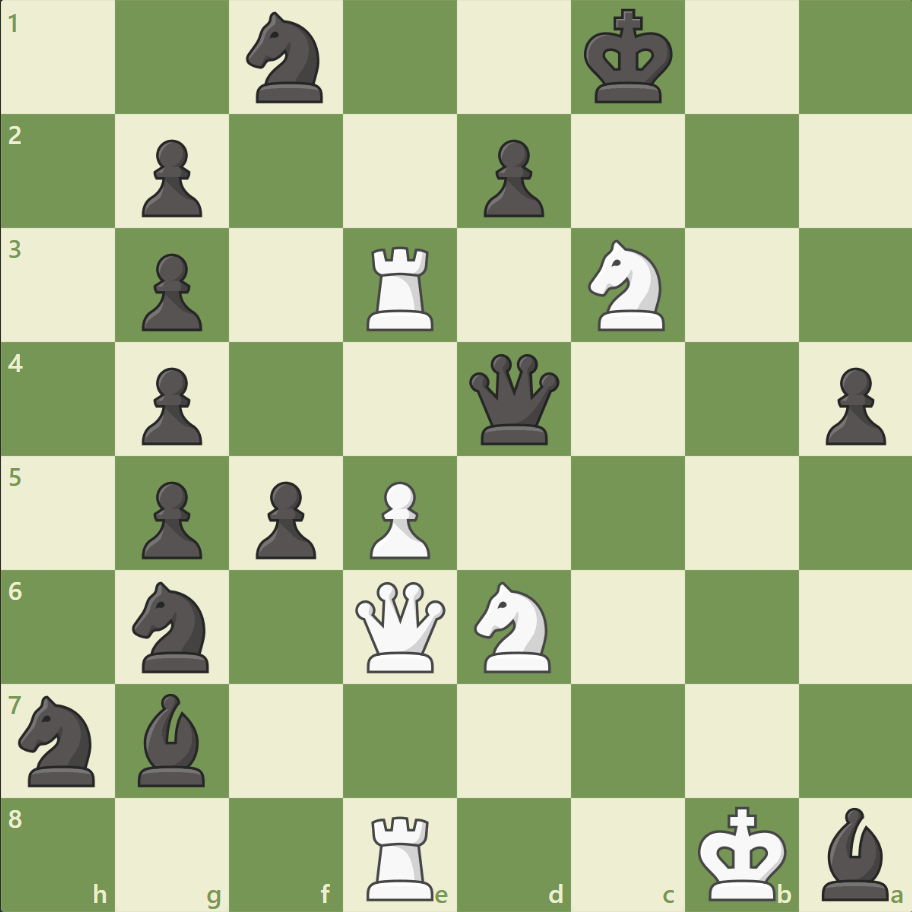K: (692, 798, 792, 906)
N: (579, 234, 676, 337), (465, 575, 562, 677)
P: (361, 473, 435, 564)
Q: (351, 576, 450, 676)
R: (360, 806, 442, 904), (360, 239, 442, 336)
b: (812, 801, 896, 904), (131, 687, 215, 790)
k: (579, 4, 679, 112)
n: (124, 575, 222, 677), (11, 688, 108, 791), (238, 7, 335, 110)
p: (247, 473, 322, 564), (133, 473, 208, 564), (133, 359, 208, 450), (133, 246, 208, 337), (474, 132, 549, 223), (133, 132, 208, 223), (815, 359, 889, 450)
q: (464, 349, 563, 449)
